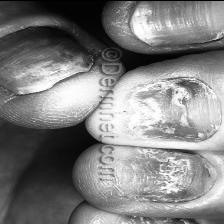Toxin: (129, 76, 223, 140), (0, 32, 95, 92), (118, 147, 216, 199), (133, 0, 224, 46), (111, 216, 206, 224)
